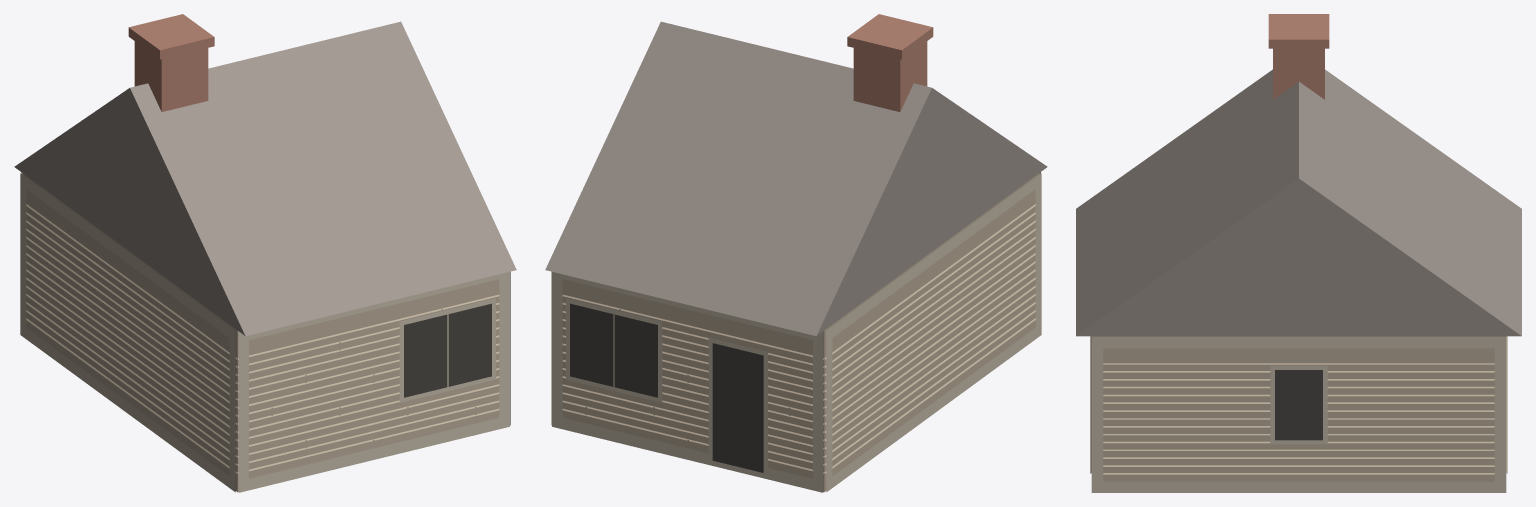
Rendered from inf_artisan_dwelling_west_b__inferred_1835.glb.
3 renders of one model, left to right at view 1: azimuth 30°, elevation 25°; view 2: azimuth 150°, elevation 25°; view 3: azimuth 270°, elevation 25°, orthographic. The views are drawn at different scales.
Parts seen in each view (by area): view 1: inf_artisan_dwelling_west_b__inferred_1835; view 2: inf_artisan_dwelling_west_b__inferred_1835; view 3: inf_artisan_dwelling_west_b__inferred_1835.
Part boxes in pixels (bbox=[...]): inf_artisan_dwelling_west_b__inferred_1835: bbox=[14, 14, 516, 492]; inf_artisan_dwelling_west_b__inferred_1835: bbox=[545, 14, 1047, 492]; inf_artisan_dwelling_west_b__inferred_1835: bbox=[1076, 14, 1521, 492].
Size of the model in its own units: 4.96 by 6.37 by 7.21.
